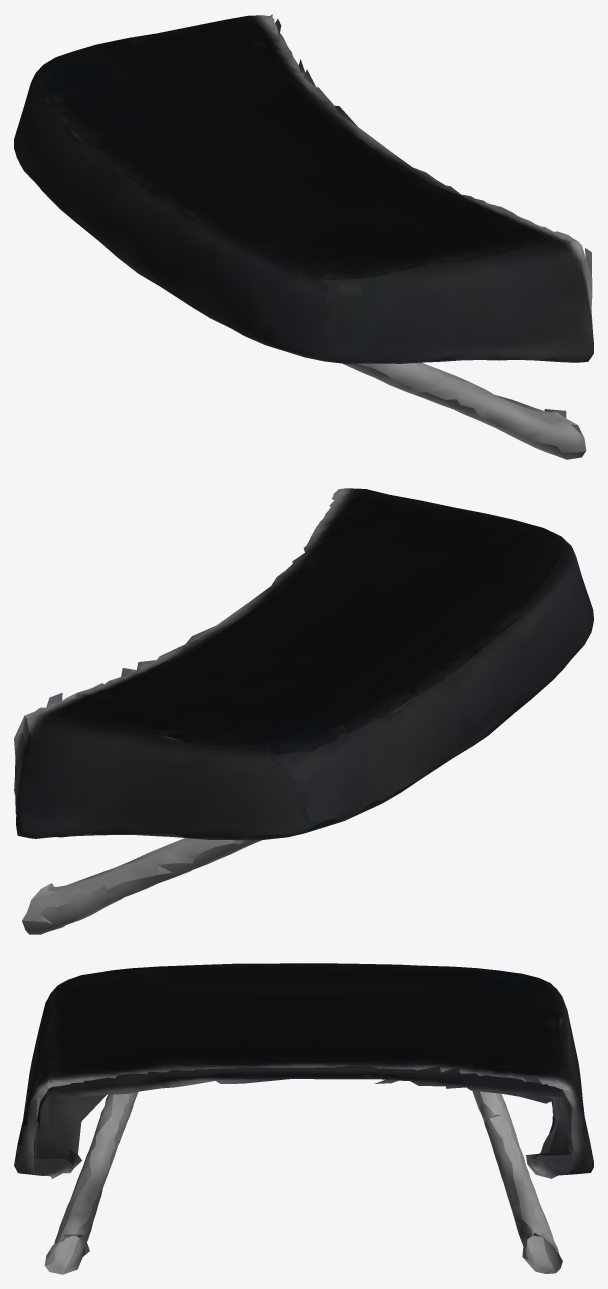
File: pedal.glb
The picture shows the model from 3 angles, top to bottom: view 1: azimuth 30°, elevation 25°; view 2: azimuth 150°, elevation 25°; view 3: azimuth 270°, elevation 25°; orthographic projection. The views are drawn at different scales.
Visible parts, largest first — view 1: world; view 2: world; view 3: world.
Part boxes in pixels (x1=…): world: x1=14, y1=14, x2=593, y2=459; world: x1=14, y1=488, x2=593, y2=934; world: x1=14, y1=963, x2=593, y2=1274.
Bounding box in the file's own units: 0.0565 × 0.0425 × 0.1108.
1 material, 1 textured.
